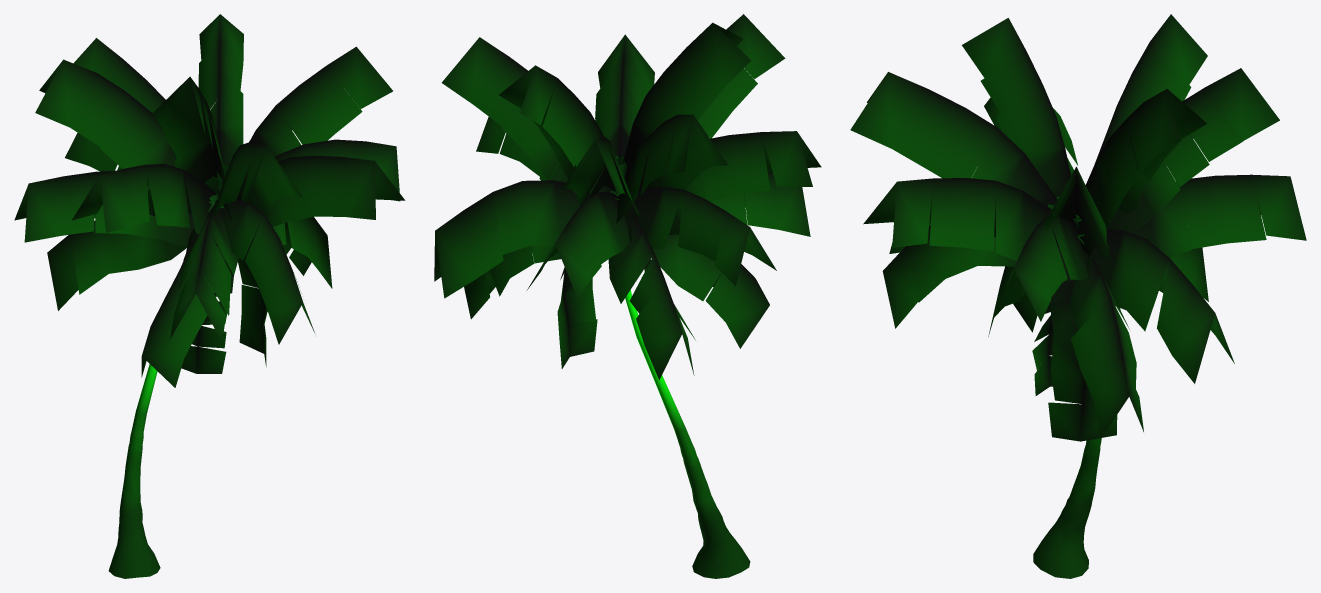
Rendered from CoconutPalmTree01_afsTREE_xlprl10_xef99_uv2_xds10_xlod00.fbx.
The picture shows the model from 3 angles, left to right: view 1: azimuth 30°, elevation 25°; view 2: azimuth 150°, elevation 25°; view 3: azimuth 270°, elevation 25°; orthographic projection. The views are drawn at different scales.
Visible parts, largest first — view 1: branch_xw08_xt08_xlp05_xp02, branch_xw09_xt05_xlp05_xp07, branch_xw08_xt08_xlp05_xp09, branch_xw08_xt09_xlp06_xp06, branch_xw06_xt04_xlp03, branch_xw08_xt08_xlp06_xp10, branch_xw05_xt06_xlp04_xp04, branch_xw10_xt10_xlp08, branch_xw06_xt05_xlp04, branch_xw09_xt09_xlp05_xp07, trunk_xw06_xt05_xlp00, branch_xw05_xt06_xlp06_xp04 (+7 smaller); view 2: branch_xw07_xt06_xlp06_xp10, branch_xw08_xt08_xlp06_xp10, branch_xw09_xt09_xlp05_xp07, branch_xw08_xt08_xlp05_xp09, branch_xw09_xt05_xlp05_xp07, branch_xw06_xt04_xlp03, branch_xw08_xt08_xlp05_xp02, branch_xw10_xt10_xlp08, branch_xw05_xt06_xlp06_xp04, trunk_xw06_xt05_xlp00, branch_xw06_xt07_xlp04, branch_xw08_xt09_xlp06_xp06 (+6 smaller); view 3: branch_xw07_xt06_xlp04_xp05, branch_xw08_xt09_xlp06_xp06, branch_xw06_xt07_xlp04, branch_xw07_xt06_xlp06_xp10, branch_xw09_xt09_xlp05_xp07, branch_xw08_xt08_xlp05_xp10.001, branch_xw10_xt10_xlp08, branch_xw07_xt06_xlp03_xp09, branch_xw05_xt07_xlp03_xp03, branch_xw08_xt08_xlp05_xp02, branch_xw05_xt06_xlp04_xp04, branch_xw08_xt08_xlp05 (+6 smaller).
Boxes of the visible parts, bbox=[...] form: branch_xw08_xt08_xlp05_xp02: bbox=[35, 59, 176, 189]; branch_xw09_xt05_xlp05_xp07: bbox=[249, 46, 392, 248]; branch_xw08_xt08_xlp05_xp09: bbox=[71, 164, 216, 242]; branch_xw08_xt09_xlp06_xp06: bbox=[215, 155, 405, 246]; branch_xw06_xt04_xlp03: bbox=[47, 221, 186, 310]; branch_xw08_xt08_xlp06_xp10: bbox=[14, 170, 194, 246]; branch_xw05_xt06_xlp04_xp04: bbox=[221, 199, 314, 344]; branch_xw10_xt10_xlp08: bbox=[198, 14, 243, 166]; branch_xw06_xt05_xlp04: bbox=[170, 200, 238, 341]; branch_xw09_xt09_xlp05_xp07: bbox=[152, 76, 231, 221]; trunk_xw06_xt05_xlp00: bbox=[108, 364, 160, 578]; branch_xw05_xt06_xlp06_xp04: bbox=[141, 235, 225, 387]; branch_xw07_xt06_xlp06_xp10: bbox=[434, 180, 590, 298]; branch_xw08_xt08_xlp06_xp10: bbox=[624, 187, 776, 286]; branch_xw09_xt09_xlp05_xp07: bbox=[623, 22, 751, 176]; branch_xw08_xt08_xlp05_xp09: bbox=[673, 131, 821, 220]; branch_xw09_xt05_xlp05_xp07: bbox=[441, 37, 568, 182]; branch_xw06_xt04_xlp03: bbox=[608, 213, 695, 379]; branch_xw08_xt08_xlp05_xp02: bbox=[616, 114, 727, 223]; branch_xw10_xt10_xlp08: bbox=[499, 65, 613, 193]; branch_xw05_xt06_xlp06_xp04: bbox=[653, 234, 769, 348]; trunk_xw06_xt05_xlp00: bbox=[625, 290, 750, 578]; branch_xw06_xt07_xlp04: bbox=[527, 191, 629, 299]; branch_xw08_xt09_xlp06_xp06: bbox=[595, 34, 654, 159]; branch_xw07_xt06_xlp04_xp05: bbox=[850, 72, 1057, 206]; branch_xw08_xt09_xlp06_xp06: bbox=[863, 178, 1075, 282]; branch_xw06_xt07_xlp04: bbox=[1132, 174, 1306, 257]; branch_xw07_xt06_xlp06_xp10: bbox=[1082, 229, 1234, 383]; branch_xw09_xt09_xlp05_xp07: bbox=[962, 18, 1070, 196]; branch_xw08_xt08_xlp05_xp10.001: bbox=[1107, 68, 1279, 233]; branch_xw10_xt10_xlp08: bbox=[1077, 89, 1206, 258]; branch_xw07_xt06_xlp03_xp09: bbox=[1069, 258, 1143, 439]; branch_xw05_xt07_xlp03_xp03: bbox=[1048, 229, 1117, 441]; branch_xw08_xt08_xlp05_xp02: bbox=[1095, 14, 1207, 162]; branch_xw05_xt06_xlp04_xp04: bbox=[882, 225, 1016, 328]; branch_xw08_xt08_xlp05: bbox=[995, 215, 1088, 321].
Size of what is drawn, in the model's own units: 10.81 by 11.44 by 15.65.
